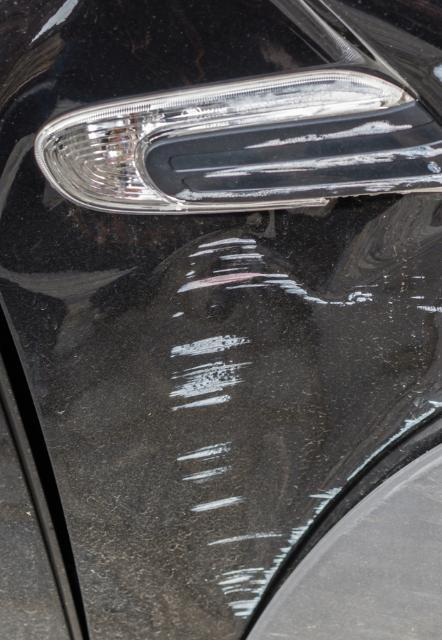Bumper: (150, 219, 437, 640)
